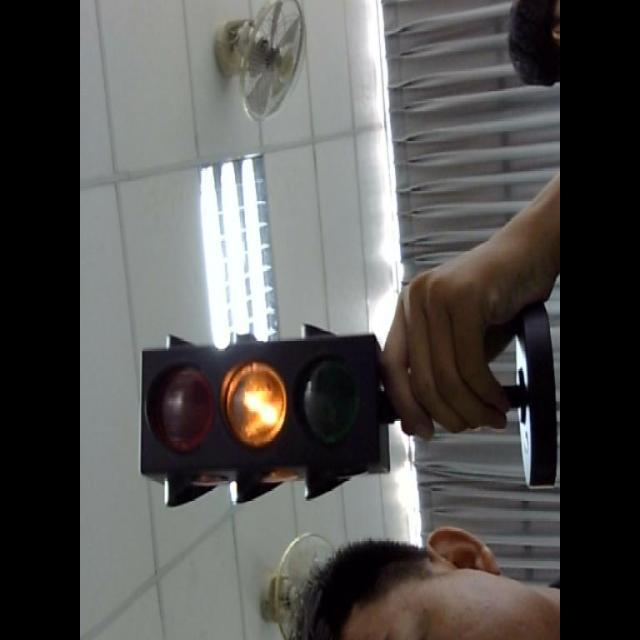yellow_light: (128, 336, 432, 492)
